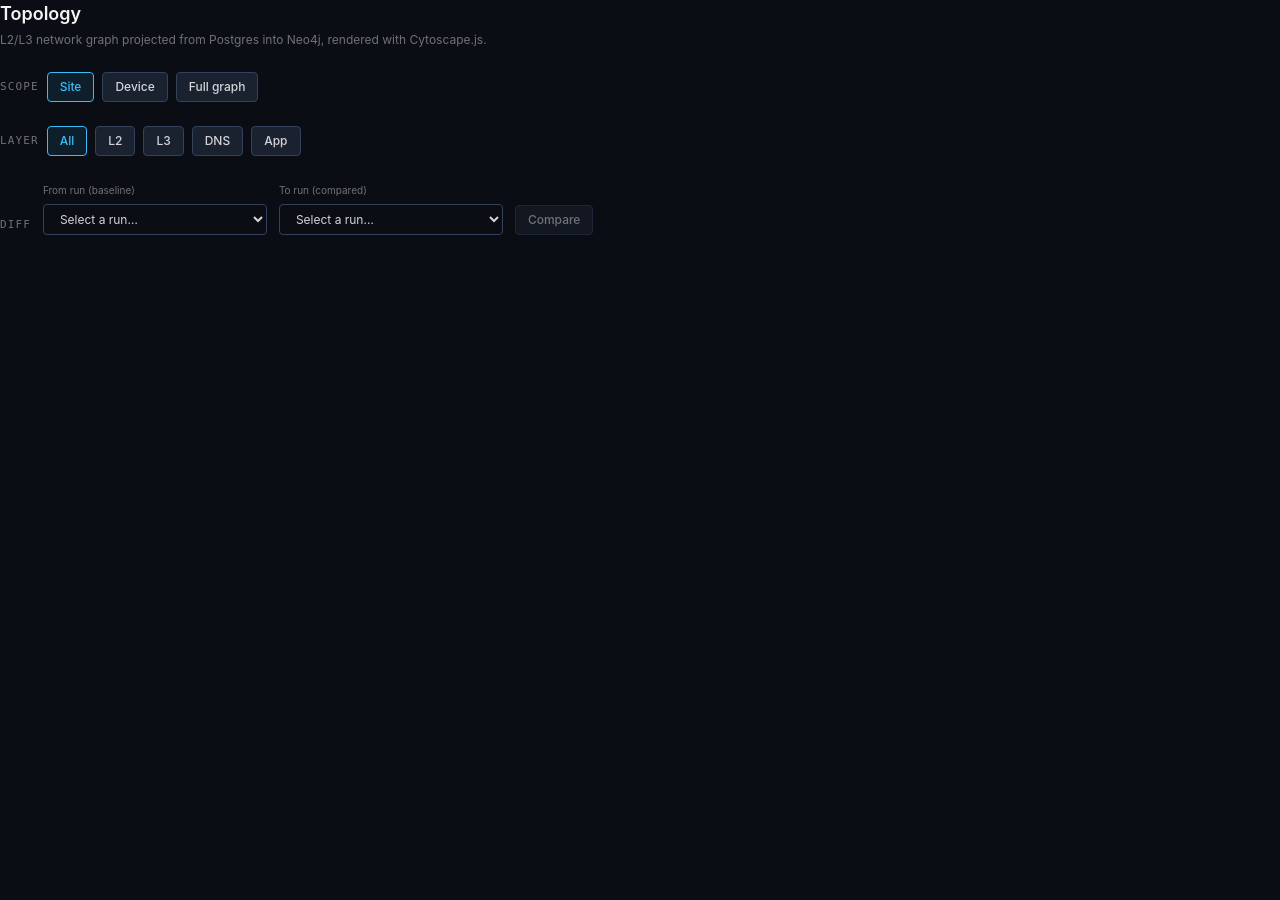
Scenario: TopologyPage — DNS layer toggle › DNS layer toggle adds DnsZone nodes to the graph
Click the button with test id "topology-layer-dns".
click(217, 141)  # box [192, 126, 243, 156]
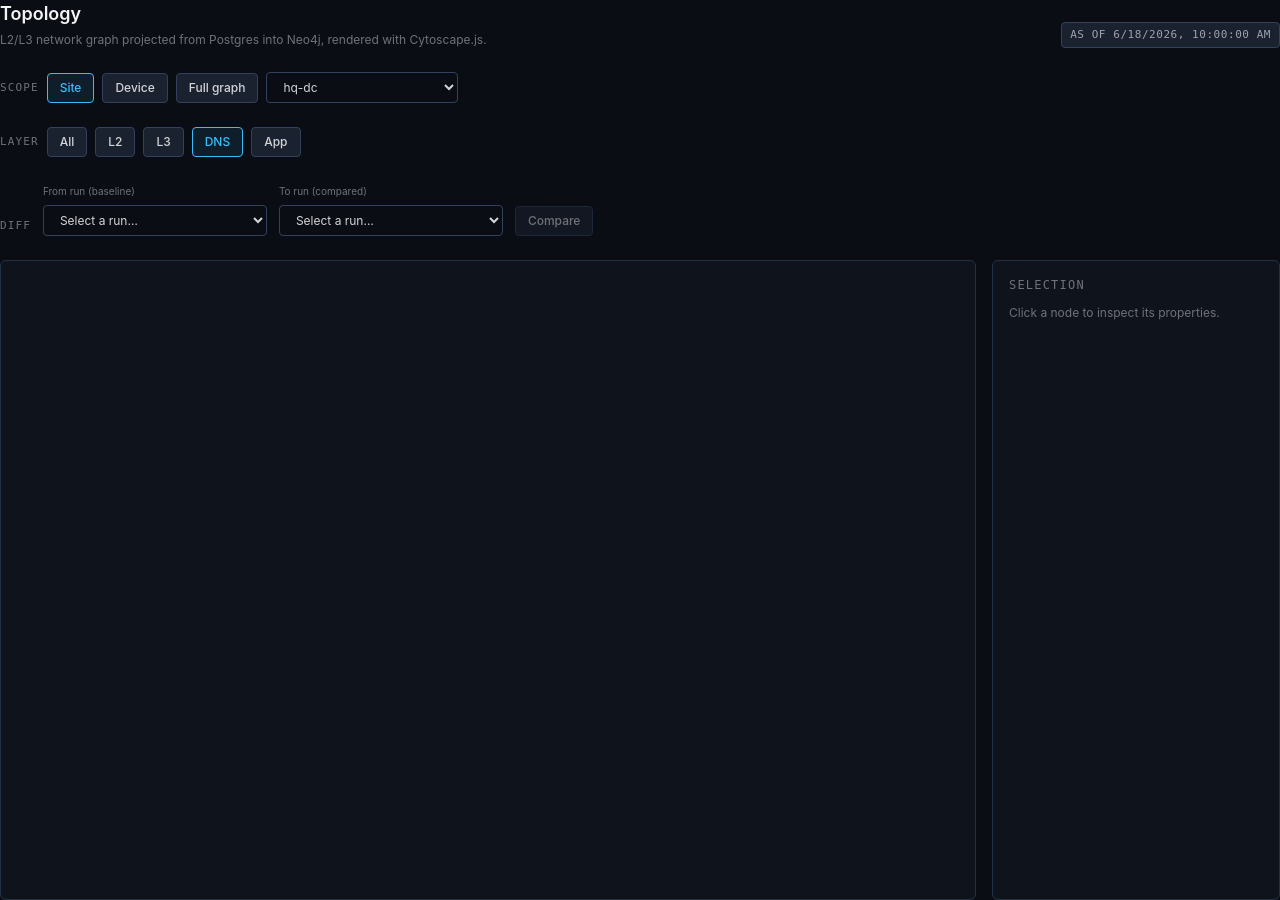
Expected: the element with test id "topology-canvas" is shown, [0, 260, 976, 899]
